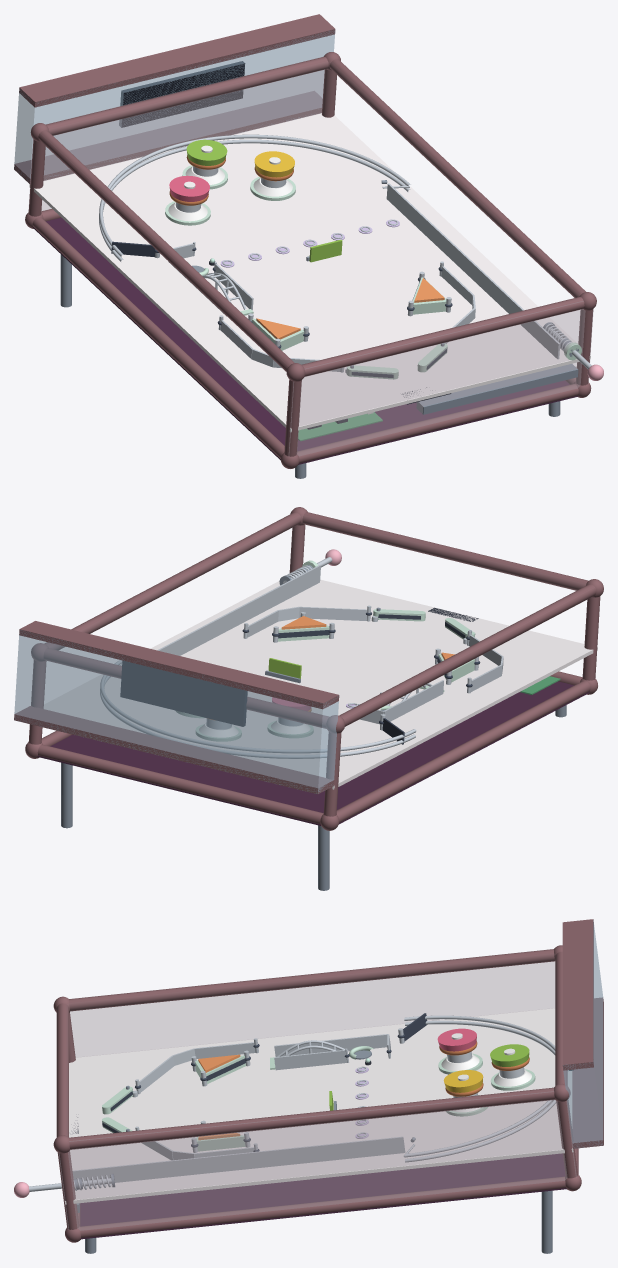
The model's file is pinball.glb.
3 views of the same model, one above another, from view 1: azimuth 30°, elevation 25°; view 2: azimuth 150°, elevation 25°; view 3: azimuth 270°, elevation 25° (orthographic). The views are drawn at different scales.
Visible parts, largest first — view 1: pinball_authored_teaching_model; view 2: pinball_authored_teaching_model; view 3: pinball_authored_teaching_model.
Part boxes in pixels (x1,y1,x2,y2): pinball_authored_teaching_model: (14,14,603,478); pinball_authored_teaching_model: (14,507,603,890); pinball_authored_teaching_model: (14,919,603,1253).
Size of the model in its own units: 0.558 by 0.3566 by 0.9502.
